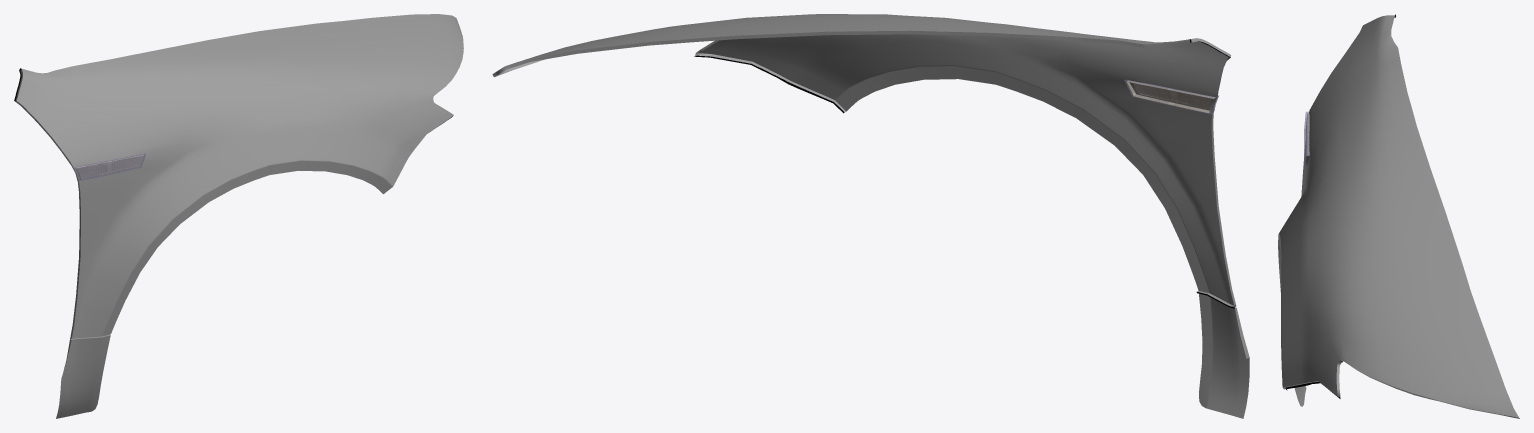
3 views of the same model, side by side, from view 1: azimuth 30°, elevation 25°; view 2: azimuth 150°, elevation 25°; view 3: azimuth 270°, elevation 25° (orthographic). The views are drawn at different scales.
Parts seen in each view (by area): view 1: X8163_141B_R_2_DaS_X8163_141B_R, X8163_141B_R_X8163_141B_R_3_DTaSI, X8163_141B_R_X8163_141B_R_1_N, X8163_141B_R_2_DaS_X8163_141B_R_E; view 2: X8163_141B_R_2_DaS_X8163_141B_R, X8163_141B_R_2_DaS_X8163_141B_R_E, X8163_141B_R_X8163_141B_R_1_N; view 3: X8163_141B_R_2_DaS_X8163_141B_R, X8163_141B_R_2_DaS_X8163_141B_R_E, X8163_141B_R_X8163_141B_R_3_DTaSI.
Part boxes in pixels (x1=…): X8163_141B_R_2_DaS_X8163_141B_R: x1=16, y1=14, x2=463, y2=418; X8163_141B_R_X8163_141B_R_3_DTaSI: x1=73, y1=153, x2=145, y2=180; X8163_141B_R_X8163_141B_R_1_N: x1=75, y1=154, x2=143, y2=179; X8163_141B_R_2_DaS_X8163_141B_R_E: x1=15, y1=69, x2=110, y2=368; X8163_141B_R_2_DaS_X8163_141B_R: x1=514, y1=14, x2=1249, y2=418; X8163_141B_R_2_DaS_X8163_141B_R_E: x1=492, y1=30, x2=1249, y2=358; X8163_141B_R_X8163_141B_R_1_N: x1=1126, y1=80, x2=1215, y2=112; X8163_141B_R_2_DaS_X8163_141B_R: x1=1278, y1=15, x2=1518, y2=417; X8163_141B_R_2_DaS_X8163_141B_R_E: x1=1283, y1=16, x2=1519, y2=418; X8163_141B_R_X8163_141B_R_3_DTaSI: x1=1304, y1=111, x2=1309, y2=166.
Size of the model in its own units: 149 by 90.09 by 52.62.
